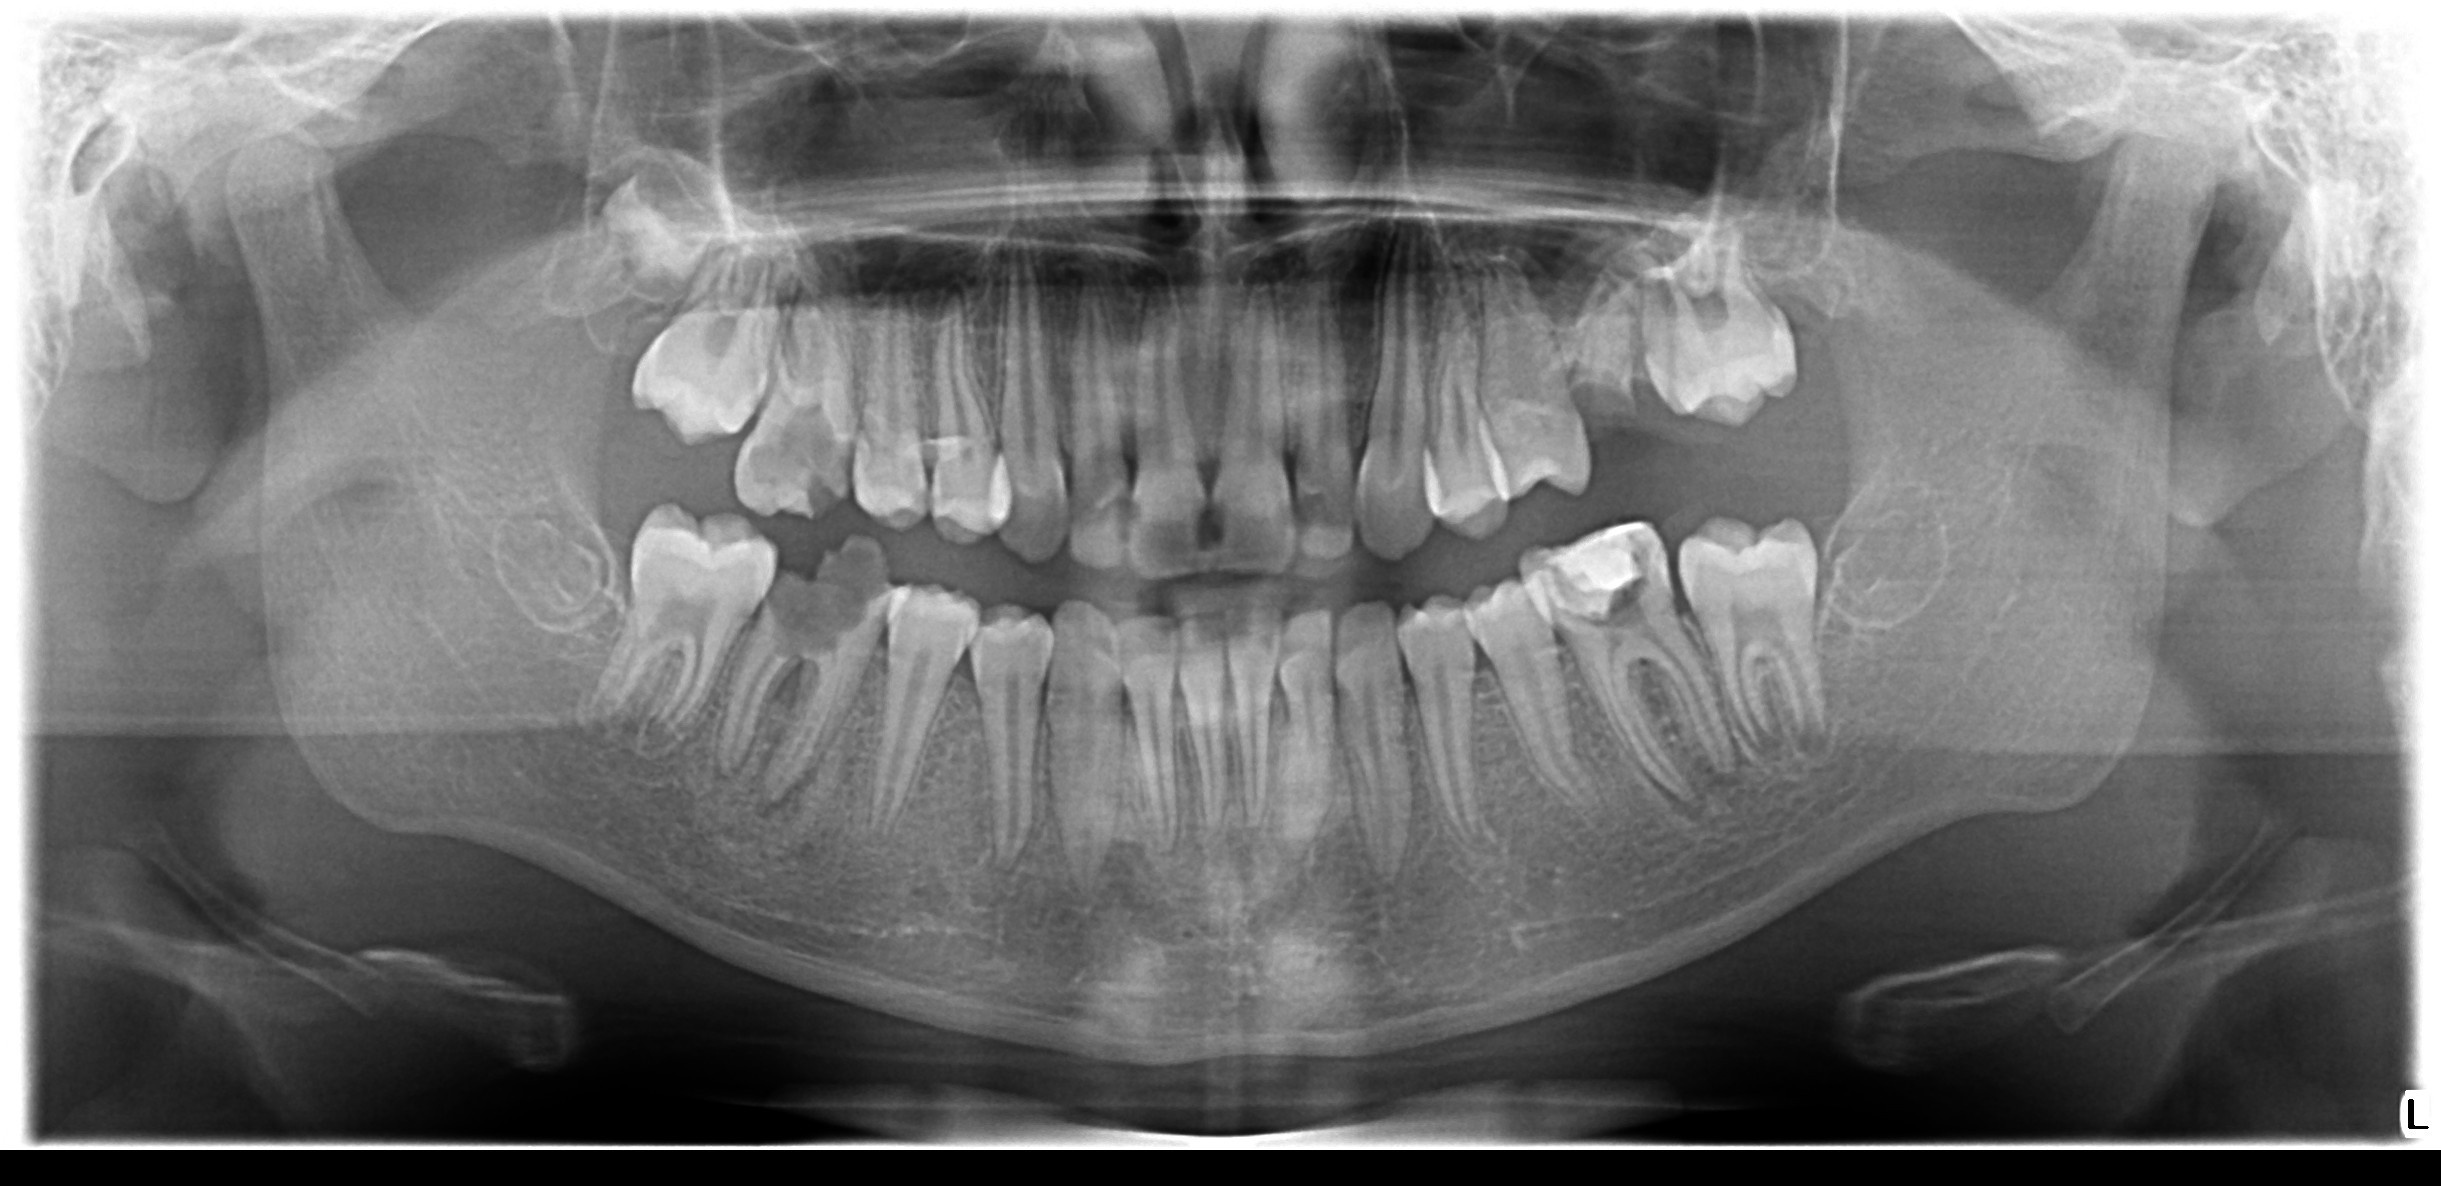API: (1633, 778, 1716, 820), (1691, 735, 1748, 788)
IMT: (755, 658, 824, 728)
OBT: (767, 539, 886, 668), (735, 411, 842, 515), (1599, 523, 1666, 618), (1182, 490, 1231, 560), (1110, 486, 1147, 548)
ROT: (1566, 254, 1642, 440), (730, 766, 808, 825)
